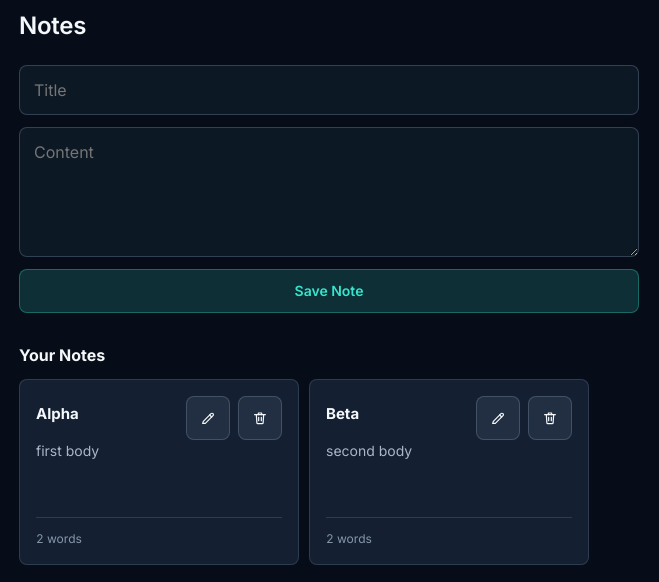
Test case: NotesPage › loads a note into the form to edit and saves the update
Expected: the heading "Alpha" is shown, [36,404,79,423]
Click the button named "Edit Alpha".
click(208, 418)  # box [186,396,230,440]
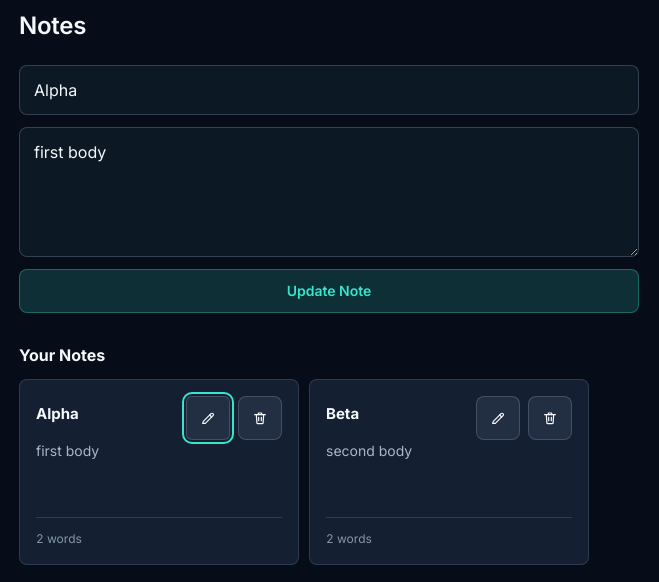
Expected: the field with placeholder "Title" holds "Alpha"
Replace the text in the field with placeholder "Title" with "Alpha v2" at (329,90), box [19,65,639,115]
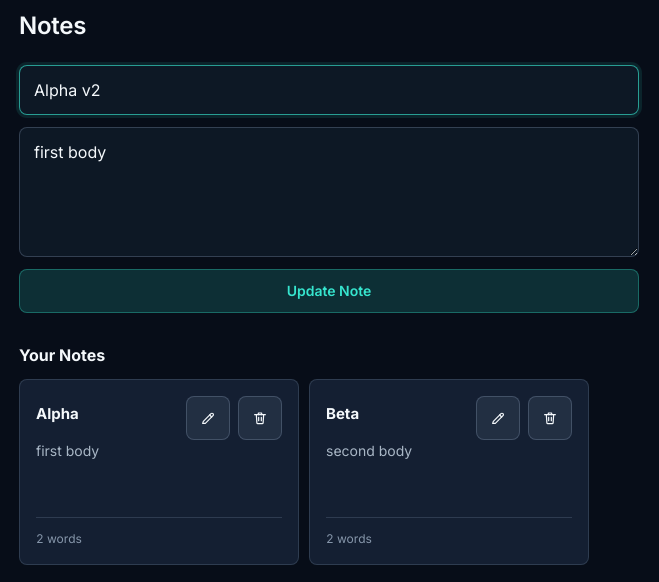
Click the button "Update Note".
click(329, 291)  # box [19,269,639,313]
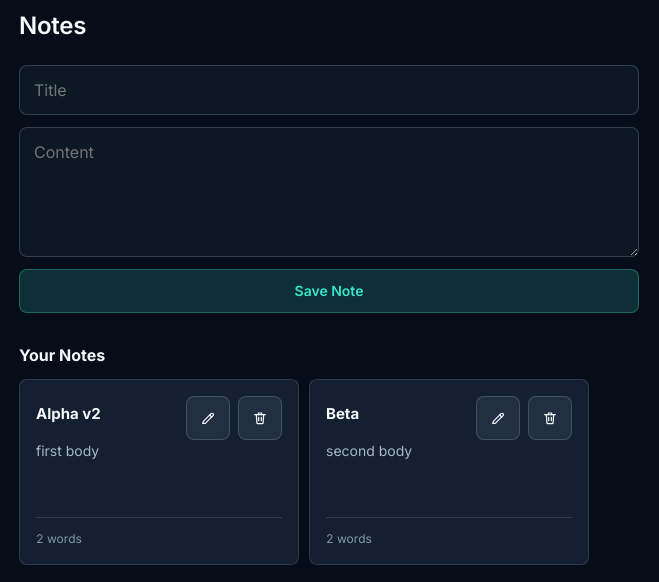
Expected: the heading "Alpha v2" is shown, [36,404,101,423]
Expected: the button "Save Note" is shown, [19,269,639,313]
